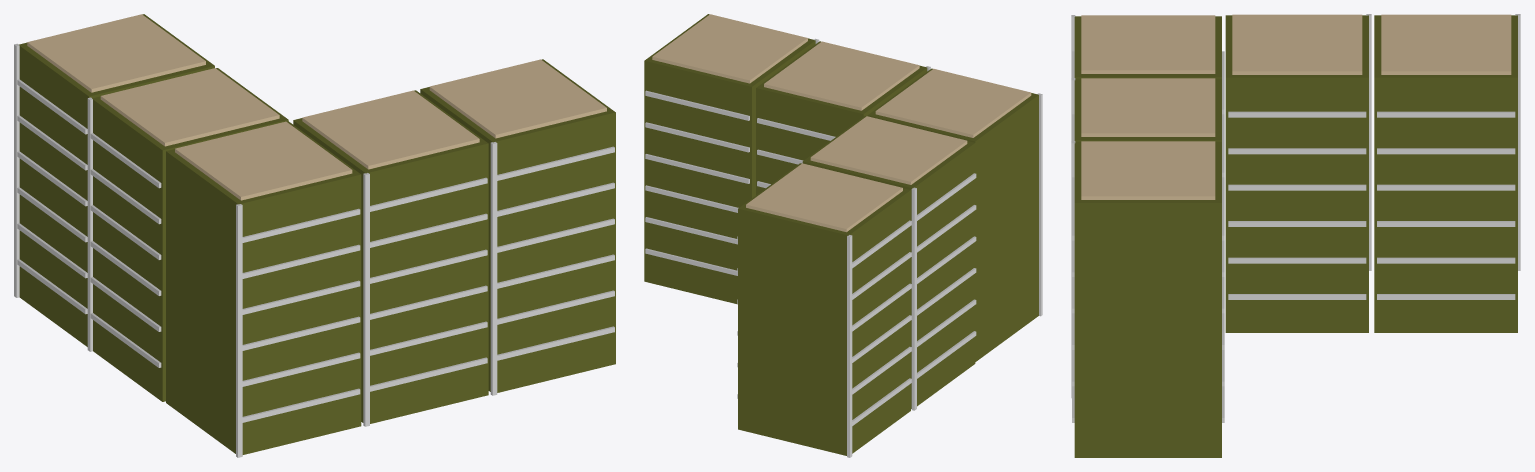
File: SM_HescoEsquina_v1_Geotextil_e0_Sano_LOD0.fbx
3 views of the same model, side by side, from view 1: azimuth 30°, elevation 25°; view 2: azimuth 150°, elevation 25°; view 3: azimuth 270°, elevation 25° (orthographic). The views are drawn at different scales.
Visible parts, largest first — view 1: SM_hesco_piezas_v4_LOD0; view 2: SM_hesco_piezas_v4_LOD0; view 3: SM_hesco_piezas_v4_LOD0.
Part boxes in pixels (left/top/right/bottom): SM_hesco_piezas_v4_LOD0: left=14, top=14, right=615, bottom=457; SM_hesco_piezas_v4_LOD0: left=644, top=14, right=1042, bottom=457; SM_hesco_piezas_v4_LOD0: left=1071, top=14, right=1520, bottom=457.
Bounding box in the file's own units: 3.33 × 2.13 × 3.35.
